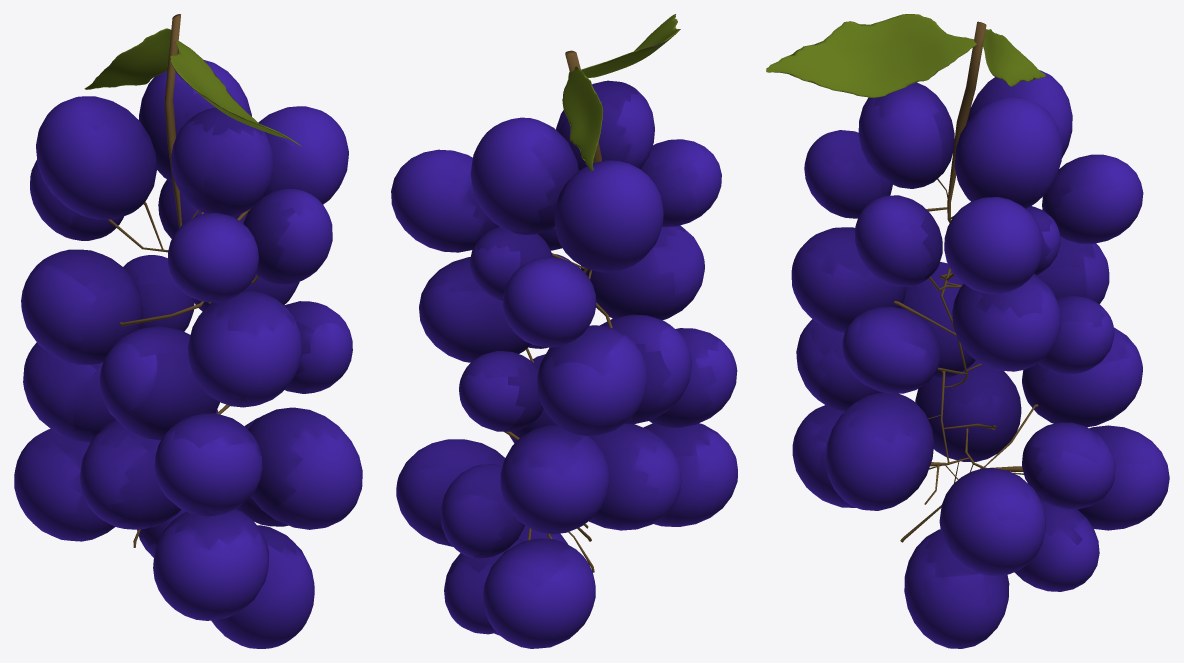
File: Parent_Run_Grapes.fbx
The picture shows the model from 3 angles, left to right: view 1: azimuth 30°, elevation 25°; view 2: azimuth 150°, elevation 25°; view 3: azimuth 270°, elevation 25°; orthographic projection. The views are drawn at different scales.
Parts seen in each view (by area): view 1: Grapes; view 2: Grapes; view 3: Grapes.
Part boxes in pixels (<box>): Grapes: <box>14,14,362,648</box>; Grapes: <box>391,14,737,648</box>; Grapes: <box>766,14,1169,648</box>.
Size of the model in its own units: 578 by 1234 by 765.
1 material, 1 textured.
